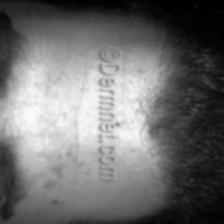Non-Cancerous Skin Condition: (151, 46, 224, 196)
